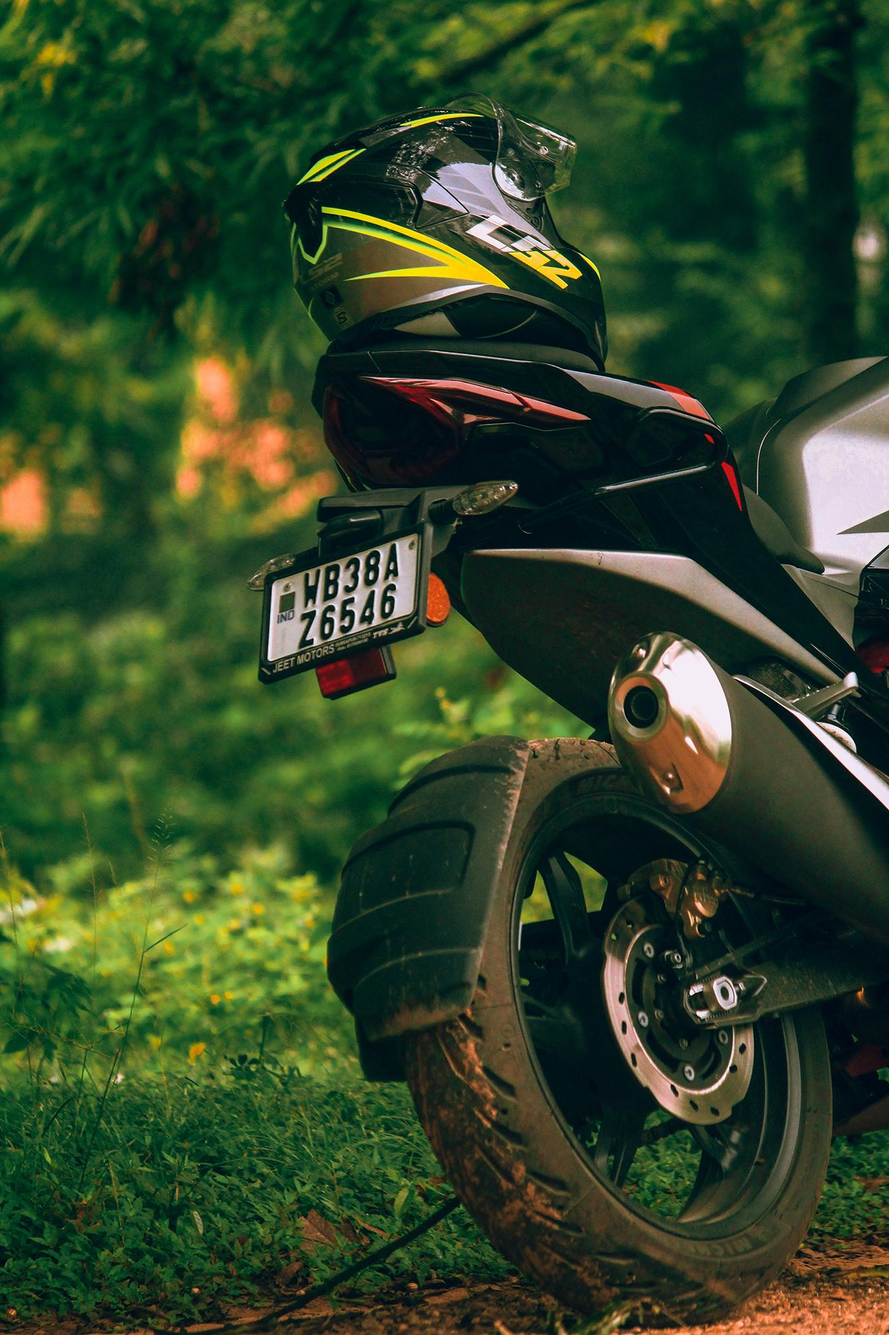helmet: (280, 89, 610, 391)
